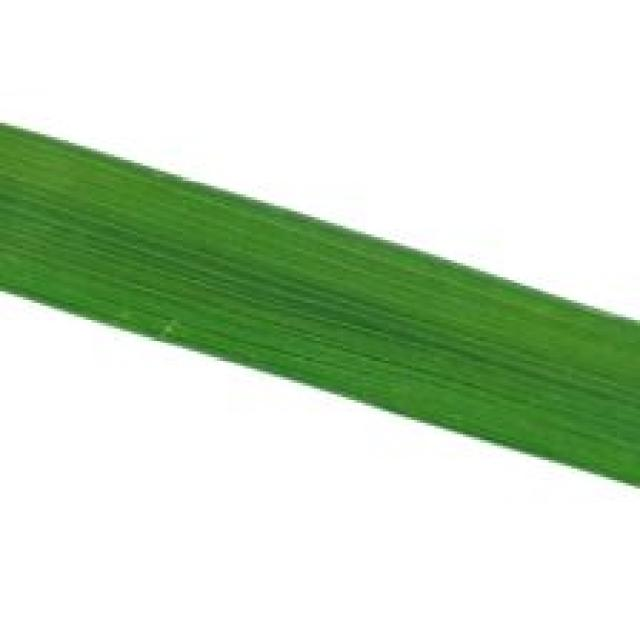Rice___Healthy_Rice_Plant: (0, 121, 637, 492)
